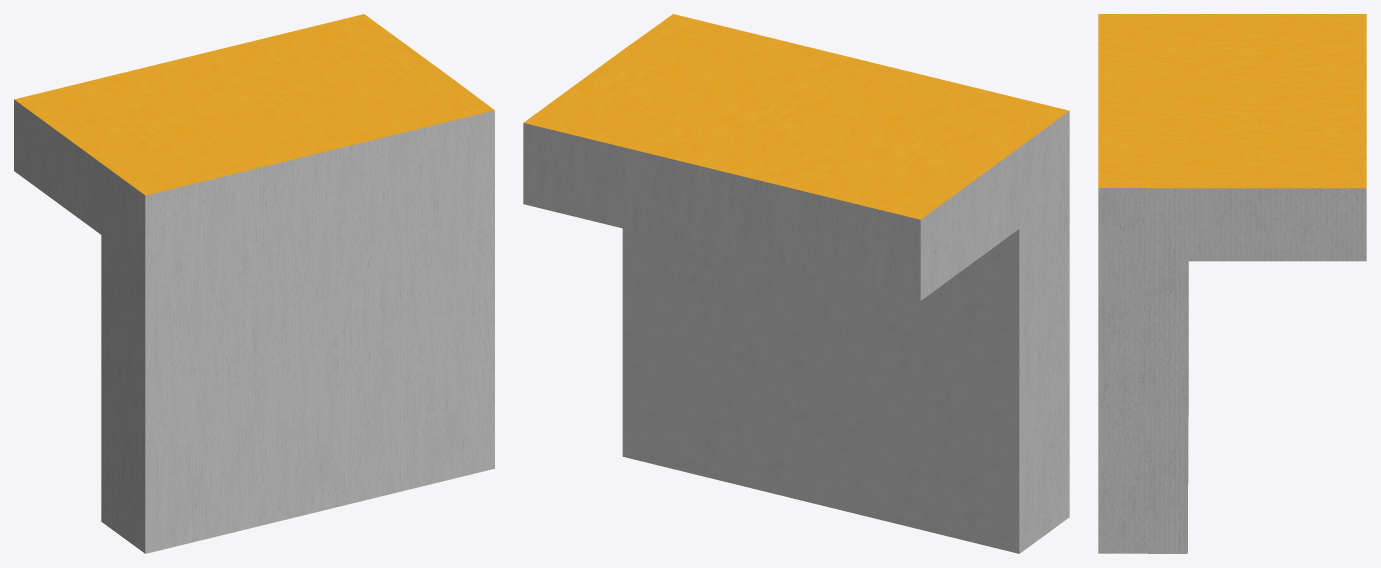
The model's file is Desk.fbx.
3 views of the same model, side by side, from view 1: azimuth 30°, elevation 25°; view 2: azimuth 150°, elevation 25°; view 3: azimuth 270°, elevation 25° (orthographic). The views are drawn at different scales.
Parts seen in each view (by area): view 1: Desk; view 2: Desk; view 3: Desk.
Part boxes in pixels (x1=…): Desk: x1=14, y1=14, x2=494, y2=553; Desk: x1=523, y1=14, x2=1069, y2=553; Desk: x1=1098, y1=14, x2=1366, y2=553.
Bounding box in the file's own units: 31.37 × 30.68 × 20.38.
